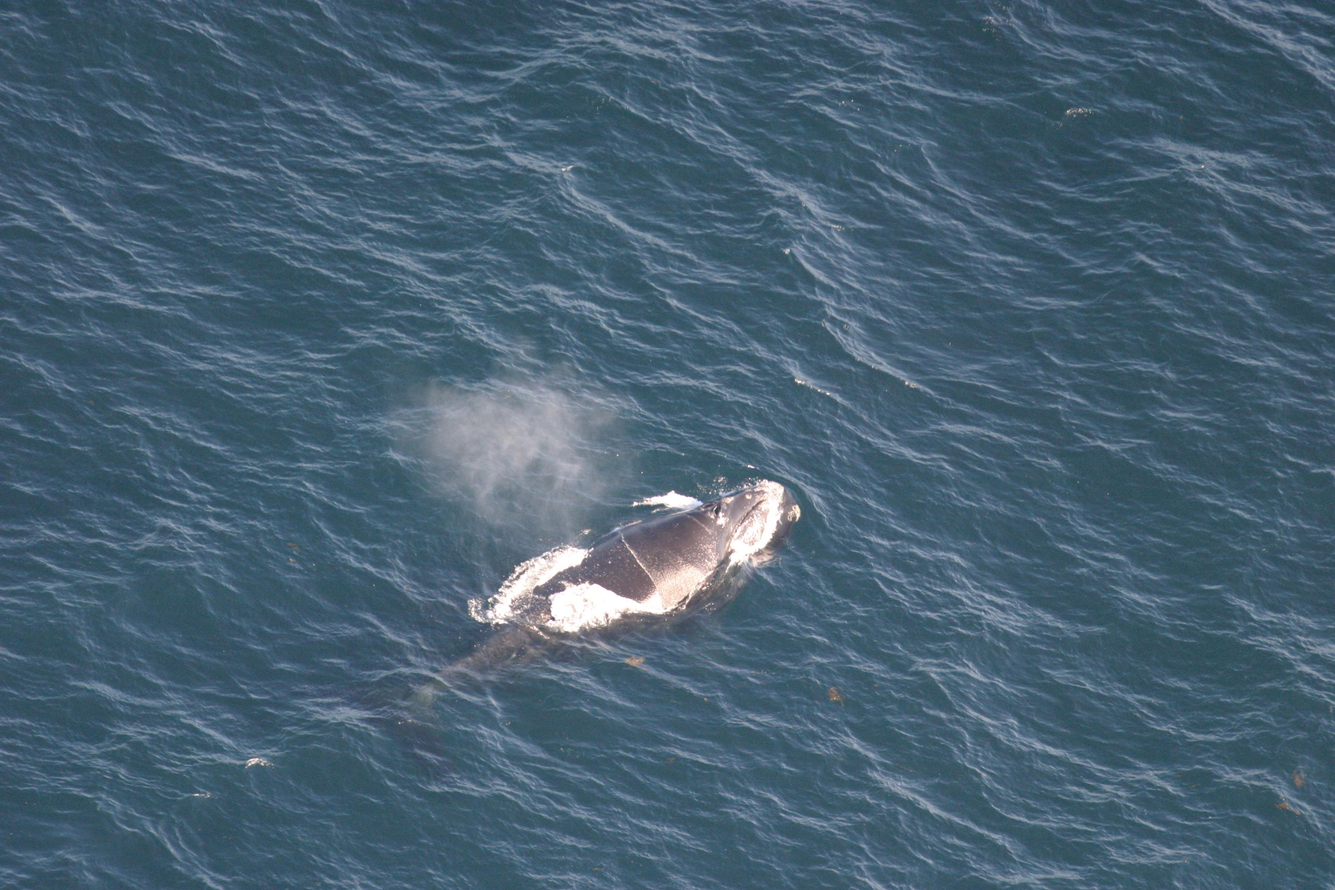whale: (306, 473, 805, 804)
